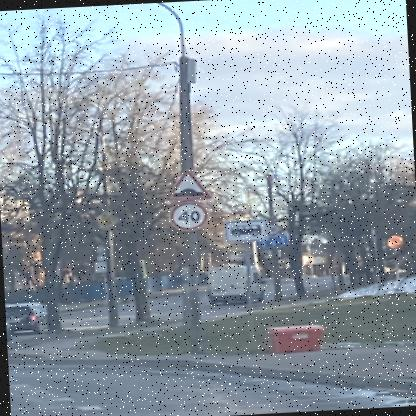speedlimit: (166, 198, 206, 230)
